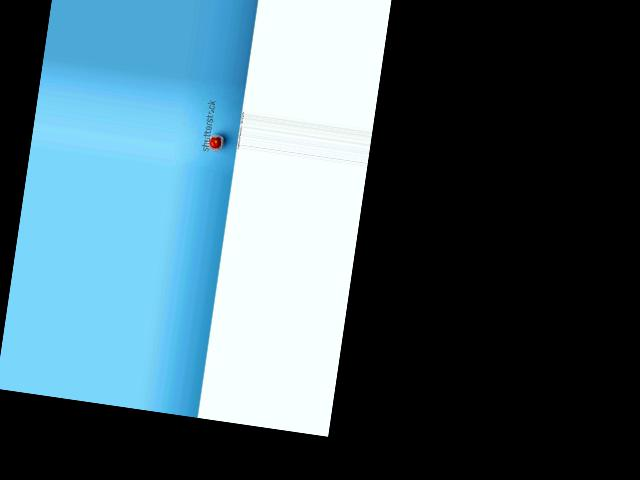tomato: (209, 136, 221, 148)
